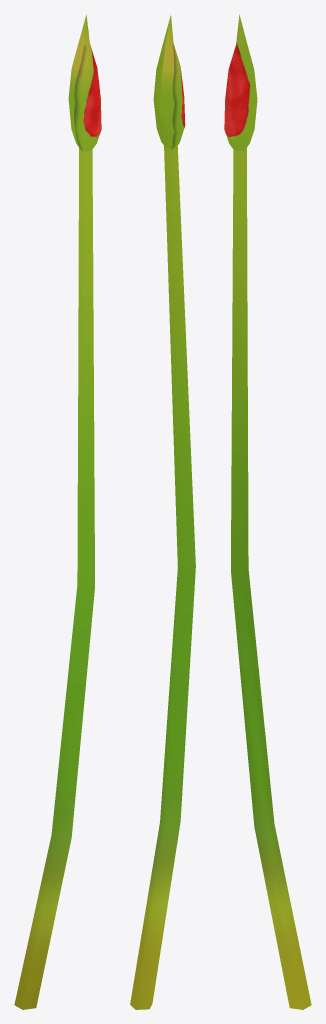
File: m_lycoris04.fbx
The picture shows the model from 3 angles, left to right: view 1: azimuth 90°, elevation 25°; view 2: azimuth 150°, elevation 25°; view 3: azimuth 270°, elevation 25°; orthographic projection. The views are drawn at different scales.
Visible parts, largest first — view 1: mesh_lycoris04_LOD0; view 2: mesh_lycoris04_LOD0; view 3: mesh_lycoris04_LOD0.
Part boxes in pixels (bbox=[...]): mesh_lycoris04_LOD0: bbox=[14, 14, 101, 1009]; mesh_lycoris04_LOD0: bbox=[130, 15, 195, 1009]; mesh_lycoris04_LOD0: bbox=[224, 14, 311, 1009].
Size of what is drawn, in the model's own units: 0.0134 by 0.3209 by 0.0256.
